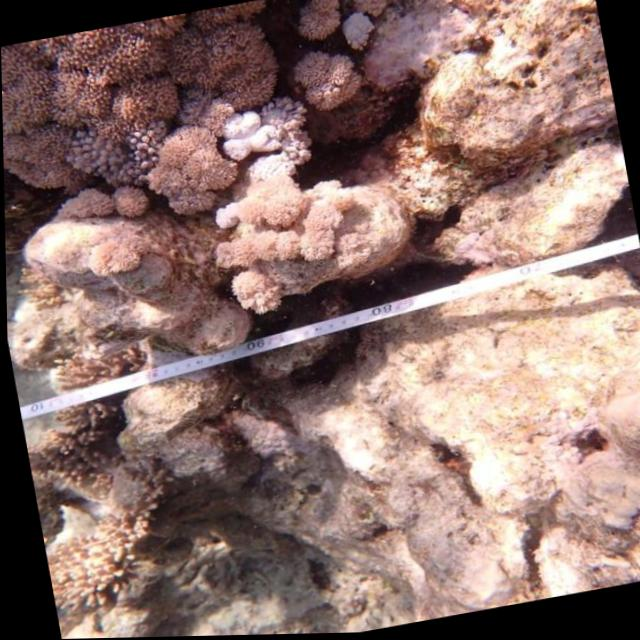Bleached Coral: (179, 91, 304, 192), (318, 3, 393, 65)
Healthy Coral: (0, 0, 276, 138)
